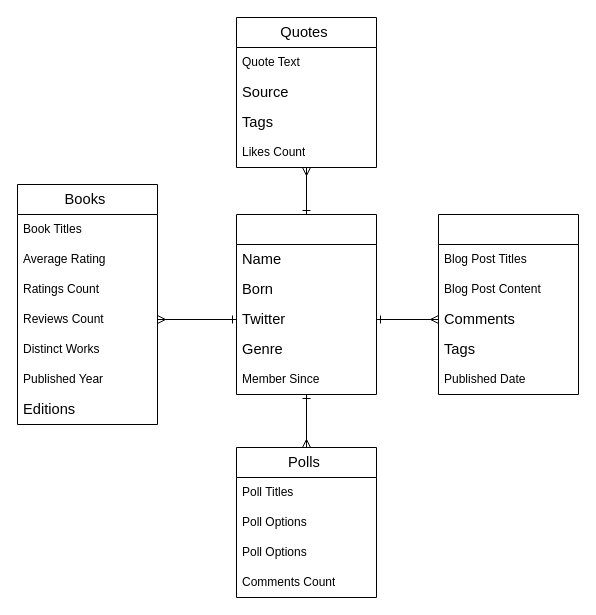
Some shapes in this 596 by 615 pixel diagram are drawn without their labels. The shapes that lost their labels are listed below. From the top down, each one's box as (x1, y1, x2, y2) in pixels, then its label:
(236, 214, 376, 394): Author
(438, 214, 578, 394): Blog Posts
